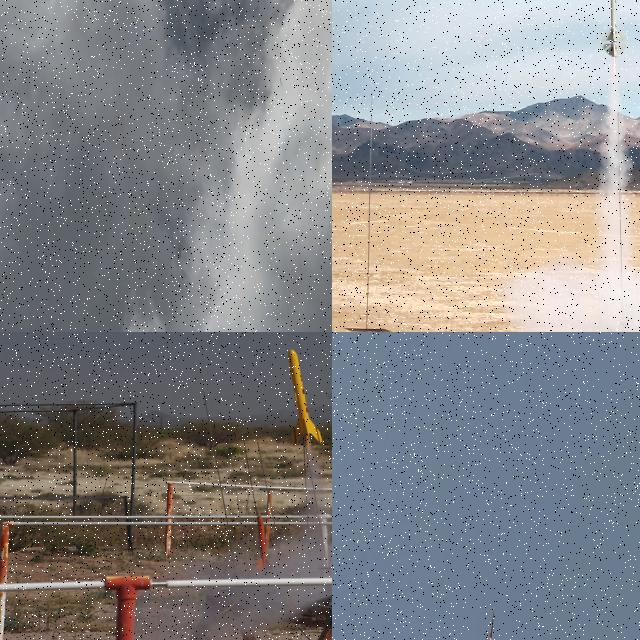Rocket: (287, 349, 324, 447), (600, 0, 628, 58), (256, 514, 276, 572), (489, 608, 494, 638), (280, 77, 282, 87)
